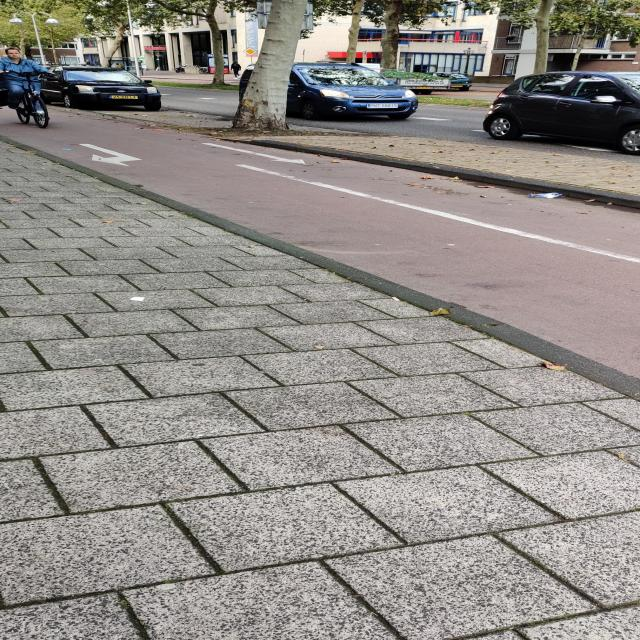litter: (520, 192, 567, 202)
